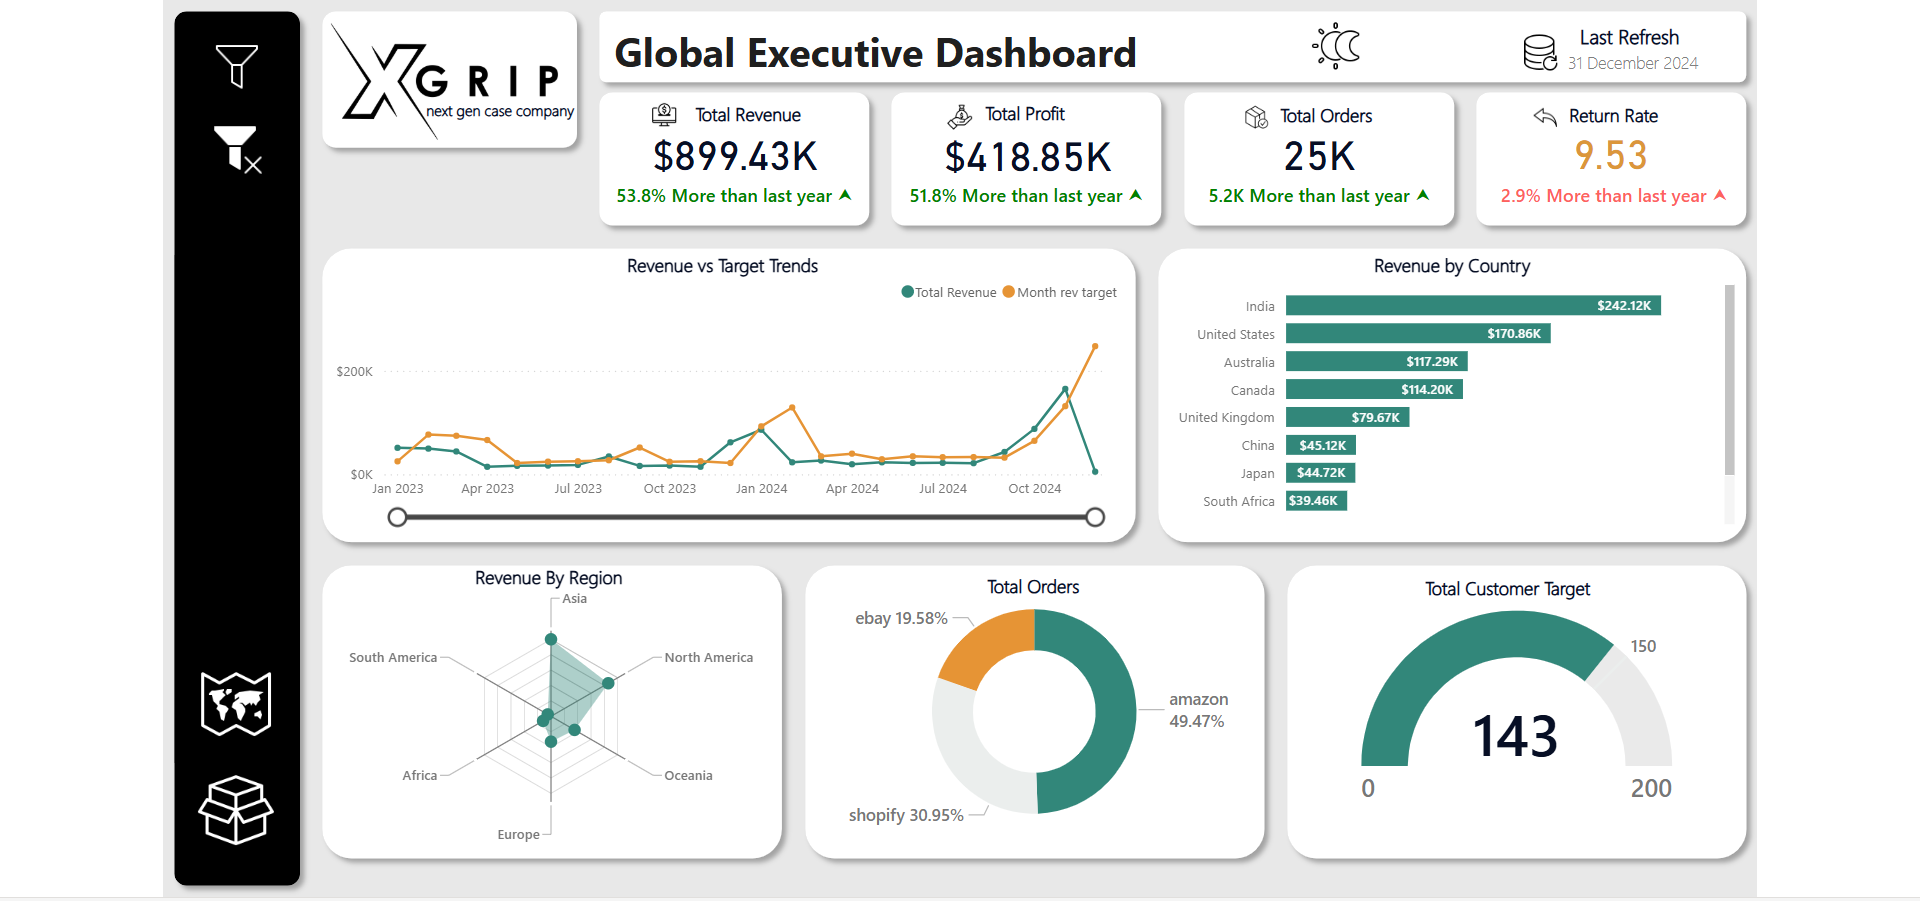

This screenshot's page, from the dashboard's own definition file:
{"tool":"powerbi","page":{"name":"Executive Dashboard","canvas":[1280,720],"ordinal":0},"visuals":[{"type":"group","id":"g1","title":"Filter Section","box":[0,0,119,720],"z":0},{"type":"shape","title":"Filter section","box":[0,0,119,720],"z":0,"group":"g1"},{"type":"shape","title":"Logo Shape","box":[118.8,0,222.5,127.5],"z":0,"group":"g15"},{"type":"shape","title":"Heading Shape","box":[341.2,0,938.8,75],"z":0,"group":"g16"},{"type":"image","box":[1085.3,14,39.5,57.5],"z":0,"group":"g9"},{"type":"shape","title":"Total Rev KPI Shape","box":[341.2,65,234.7,125],"z":0,"group":"g14"},{"type":"shape","title":"KPI 2","box":[575.9,65,234.7,125],"z":0,"group":"g10"},{"type":"shape","title":"KPI 3","box":[810.6,65,234.7,125],"z":0,"group":"g5"},{"type":"group","id":"g2","title":"Return Rate KPI","box":[1045.3,65,234.7,125],"z":0,"group":"g13"},{"type":"shape","title":"KPI 4","box":[1045.3,65,234.7,125],"z":0,"group":"g2"},{"type":"shape","title":"Line Chart Shape","box":[118.9,190,671,254],"z":0,"group":"g6"},{"type":"group","id":"g3","title":"Revenue By Country","box":[790,190,490,254],"z":0,"group":"g11"},{"type":"shape","title":"Bar Chart Shape","box":[790,190,490,254],"z":0,"group":"g3"},{"type":"shape","title":"Revenue By Region Shape","box":[118.9,444.4,387,253.3],"z":0,"group":"g12"},{"type":"shape","title":" Total Orders Shape","box":[506.3,444.4,386.7,253.3],"z":0,"group":"g8"},{"type":"group","id":"g4","title":"Total Customers","box":[893.4,444.4,386.7,253.3],"z":0,"group":"g7"},{"type":"shape","title":"Total Customers Shape","box":[893.4,444.4,386.7,253.3],"z":0,"group":"g4"},{"type":"image","title":"Logo Image","box":[122.5,0,214.6,130.4],"z":1000,"group":"g15"},{"type":"textbox","title":"Text","box":[357.4,13.5,677.8,55.3],"z":1000,"group":"g16"},{"type":"textbox","box":[1112.6,14,129.7,32],"z":1000,"group":"g9"},{"type":"image","title":"Filter Icon","box":[35,25.3,47.7,56.4],"z":1000,"group":"g1"},{"type":"group","id":"g5","title":"Total Orders KPI","box":[810.6,65,234.7,125],"z":1000,"group":"g13"},{"type":"textbox","title":"Heading","box":[417.9,76.6,103,33],"z":1000,"group":"g14"},{"type":"image","box":[624.7,76.7,30.4,35],"z":1000,"group":"g10"},{"type":"image","box":[862.7,76.7,30.4,35],"z":1000,"group":"g5"},{"type":"image","box":[1095,76.7,29.3,35],"z":1000,"group":"g2"},{"type":"group","id":"g6","title":"Revenue vs Target","box":[118.9,190,671,254],"z":1000,"group":"g11"},{"type":"lineChart","fields":{"Y":["measure.Total Revenue","measure.Month rev target"],"Category":["date table.Year Hierarchy.Year","date table.Year Hierarchy.Quarter","date table.Year Hierarchy.Month Start Date"]},"box":[133,214.7,642,210.6],"z":1000,"group":"g6"},{"type":"barChart","fields":{"Category":["country.country"],"Y":["measure.Total Revenue"]},"box":[803.7,214.7,462.9,210.6],"z":1000,"group":"g3"},{"type":"group","id":"g7","title":"Bottom Charts","box":[117.4,444.4,1162.6,253.3],"z":1000},{"type":"group","id":"g8","title":"Total Orders","box":[506.3,444.4,386.7,253.3],"z":1000,"group":"g7"},{"type":"donutChart","title":"Total Orders Chart","fields":{"Y":["measure.Total Orders"],"Category":["marketplace.platform_name"]},"box":[519.2,456.5,360,228.7],"z":1000,"group":"g8"},{"type":"RadarChart1446119667547","title":"Total Rev by region Chart","fields":{"Category":["country.region"],"Y":["measure.Total Revenue"]},"box":[117.4,464.4,388.9,220.8],"z":1000,"group":"g12"},{"type":"gauge","fields":{"Y":["measure.Total Customers"]},"box":[956.8,469.4,259.6,202.9],"z":1000,"group":"g4"},{"type":"group","id":"g9","title":"Last Refresh","box":[1085.3,14,187.9,58],"z":2000,"group":"g16"},{"type":"card","fields":{"Values":["measure.Last Refresh"]},"box":[1091.6,35,181.6,37],"z":2000,"group":"g9"},{"type":"group","id":"g10","title":"Total Profit KPI","box":[575.9,65,234.7,125],"z":2000,"group":"g13"},{"type":"textbox","title":"Logo Text box","box":[206,73,141.6,30.3],"z":2000,"group":"g15"},{"type":"image","box":[387.1,74.9,31.1,35],"z":2000,"group":"g14"},{"type":"textbox","box":[655.2,75.6,99.2,33.8],"z":2000,"group":"g10"},{"type":"textbox","box":[892,76.7,99.2,35],"z":2000,"group":"g5"},{"type":"textbox","box":[1124,76.7,99.2,35],"z":2000,"group":"g2"},{"type":"group","id":"g11","title":"Middle Charts","box":[118.9,190,1161.1,254],"z":2000},{"type":"textbox","title":"Line Chart Heading","box":[367.5,196.8,171.6,33.9],"z":2000,"group":"g6"},{"type":"textbox","title":"Rev By Country Heading","box":[967.8,196.8,144.5,33.9],"z":2000,"group":"g3"},{"type":"group","id":"g12","title":"Revenue By Region","box":[117.4,444.4,388.9,253.3],"z":2000,"group":"g7"},{"type":"textbox","title":"Revenue By Region Heading","box":[246,448,137.7,33.9],"z":2000,"group":"g12"},{"type":"textbox","title":"Total Orders Heading","box":[656.5,454.7,88.2,33.9],"z":2000,"group":"g8"},{"type":"textbox","title":"Total Customer Heading","box":[1008.6,456.7,166.8,32],"z":2000,"group":"g4"},{"type":"image","title":"Map icon","box":[15.6,529.5,86.6,71],"z":2000,"group":"g1"},{"type":"group","id":"g13","title":"KPIs","box":[341.2,65,938.8,125],"z":3000},{"type":"group","id":"g14","title":"Total Revenue KPI","box":[341.2,65,234.7,125],"z":3000,"group":"g13"},{"type":"image","title":"Clear Filter Icon","box":[36,92,48.3,56.4],"z":3000,"group":"g1"},{"type":"card","title":"Total Rev Diff","fields":{"Values":["measure.Revenue Growth"]},"box":[352,144.2,214.7,28.4],"z":3000,"group":"g14"},{"type":"card","title":"Total Profit Diff","fields":{"Values":["measure.Profit Growth"]},"box":[586.3,144.2,214.7,28.4],"z":3000,"group":"g10"},{"type":"card","title":"Total Orders Diff","fields":{"Values":["measure.Orders Growth"]},"box":[821,144.2,214.7,28.4],"z":3000,"group":"g5"},{"type":"card","title":"Return Rate Diff","fields":{"Values":["measure.Return Growth"]},"box":[1058,144.5,214.3,28.1],"z":3000,"group":"g2"},{"type":"group","id":"g15","title":"Logo","box":[118.8,0,228.8,130.4],"z":4000},{"type":"card","title":"Total Rev Value","fields":{"Values":["measure.Total Revenue"]},"box":[367.3,89,182.9,67.1],"z":4000,"group":"g14"},{"type":"card","title":"Total Profit Value","fields":{"Values":["measure.Total Profit"]},"box":[602.9,90.1,182.7,66.5],"z":4000,"group":"g10"},{"type":"card","title":"Total Orders Value","fields":{"Values":["measure.Total Orders"]},"box":[837.4,90.1,181.6,65.4],"z":4000,"group":"g5"},{"type":"card","title":"Return Rate Value","fields":{"Values":["measure.Return Rate"]},"box":[1072,90.1,181.6,64.3],"z":4000,"group":"g2"},{"type":"image","title":"Product icon","box":[15.8,614.6,85.7,71],"z":4000,"group":"g1"},{"type":"group","id":"g16","title":"Heading","box":[341.2,0,938.8,75],"z":5000},{"type":"image","title":"Dark Mode Toggle Image","box":[914,13,53,48],"z":7000}]}

Visuals, with their boxes on the page's 1280x720 design canvas (x1, y1, x2, y2). These are canvas units, not pixel positions in the 1920x901 screenshot, which may show the page scaled, cropped or inside an application window:
"Filter Section" group: left=0, top=0, right=119, bottom=720
"Filter section" shape: left=0, top=0, right=119, bottom=720
"Logo Shape" shape: left=119, top=0, right=341, bottom=128
"Heading Shape" shape: left=341, top=0, right=1280, bottom=75
image: left=1085, top=14, right=1125, bottom=72
"Total Rev KPI Shape" shape: left=341, top=65, right=576, bottom=190
"KPI 2" shape: left=576, top=65, right=811, bottom=190
"KPI 3" shape: left=811, top=65, right=1045, bottom=190
"Return Rate KPI" group: left=1045, top=65, right=1280, bottom=190
"KPI 4" shape: left=1045, top=65, right=1280, bottom=190
"Line Chart Shape" shape: left=119, top=190, right=790, bottom=444
"Revenue By Country" group: left=790, top=190, right=1280, bottom=444
"Bar Chart Shape" shape: left=790, top=190, right=1280, bottom=444
"Revenue By Region Shape" shape: left=119, top=444, right=506, bottom=698
" Total Orders Shape" shape: left=506, top=444, right=893, bottom=698
"Total Customers" group: left=893, top=444, right=1280, bottom=698
"Total Customers Shape" shape: left=893, top=444, right=1280, bottom=698
"Logo Image" image: left=122, top=0, right=337, bottom=130
"Text" textbox: left=357, top=14, right=1035, bottom=69
textbox: left=1113, top=14, right=1242, bottom=46
"Filter Icon" image: left=35, top=25, right=83, bottom=82
"Total Orders KPI" group: left=811, top=65, right=1045, bottom=190
"Heading" textbox: left=418, top=77, right=521, bottom=110
image: left=625, top=77, right=655, bottom=112
image: left=863, top=77, right=893, bottom=112
image: left=1095, top=77, right=1124, bottom=112
"Revenue vs Target" group: left=119, top=190, right=790, bottom=444
lineChart - measure.Total Revenue x measure.Month rev target: left=133, top=215, right=775, bottom=425
barChart - country.country x measure.Total Revenue: left=804, top=215, right=1267, bottom=425
"Bottom Charts" group: left=117, top=444, right=1280, bottom=698
"Total Orders" group: left=506, top=444, right=893, bottom=698
"Total Orders Chart" donutChart: left=519, top=456, right=879, bottom=685
"Total Rev by region Chart" RadarChart1446119667547: left=117, top=464, right=506, bottom=685
gauge - measure.Total Customers: left=957, top=469, right=1216, bottom=672
"Last Refresh" group: left=1085, top=14, right=1273, bottom=72
card - measure.Last Refresh: left=1092, top=35, right=1273, bottom=72
"Total Profit KPI" group: left=576, top=65, right=811, bottom=190
"Logo Text box" textbox: left=206, top=73, right=348, bottom=103
image: left=387, top=75, right=418, bottom=110
textbox: left=655, top=76, right=754, bottom=109
textbox: left=892, top=77, right=991, bottom=112
textbox: left=1124, top=77, right=1223, bottom=112
"Middle Charts" group: left=119, top=190, right=1280, bottom=444
"Line Chart Heading" textbox: left=368, top=197, right=539, bottom=231
"Rev By Country Heading" textbox: left=968, top=197, right=1112, bottom=231
"Revenue By Region" group: left=117, top=444, right=506, bottom=698
"Revenue By Region Heading" textbox: left=246, top=448, right=384, bottom=482
"Total Orders Heading" textbox: left=656, top=455, right=745, bottom=489
"Total Customer Heading" textbox: left=1009, top=457, right=1175, bottom=489
"Map icon" image: left=16, top=530, right=102, bottom=600
"KPIs" group: left=341, top=65, right=1280, bottom=190
"Total Revenue KPI" group: left=341, top=65, right=576, bottom=190
"Clear Filter Icon" image: left=36, top=92, right=84, bottom=148
"Total Rev Diff" card: left=352, top=144, right=567, bottom=173
"Total Profit Diff" card: left=586, top=144, right=801, bottom=173
"Total Orders Diff" card: left=821, top=144, right=1036, bottom=173
"Return Rate Diff" card: left=1058, top=144, right=1272, bottom=173
"Logo" group: left=119, top=0, right=348, bottom=130
"Total Rev Value" card: left=367, top=89, right=550, bottom=156
"Total Profit Value" card: left=603, top=90, right=786, bottom=157
"Total Orders Value" card: left=837, top=90, right=1019, bottom=156
"Return Rate Value" card: left=1072, top=90, right=1254, bottom=154
"Product icon" image: left=16, top=615, right=102, bottom=686
"Heading" group: left=341, top=0, right=1280, bottom=75
"Dark Mode Toggle Image" image: left=914, top=13, right=967, bottom=61
